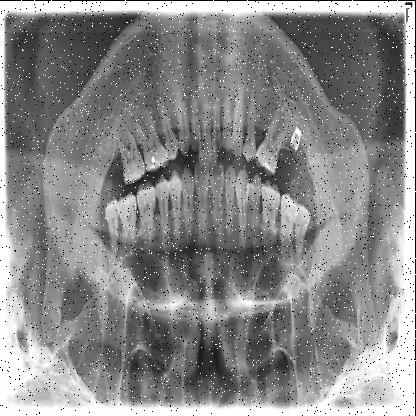Bicon: (290, 122, 304, 150)
